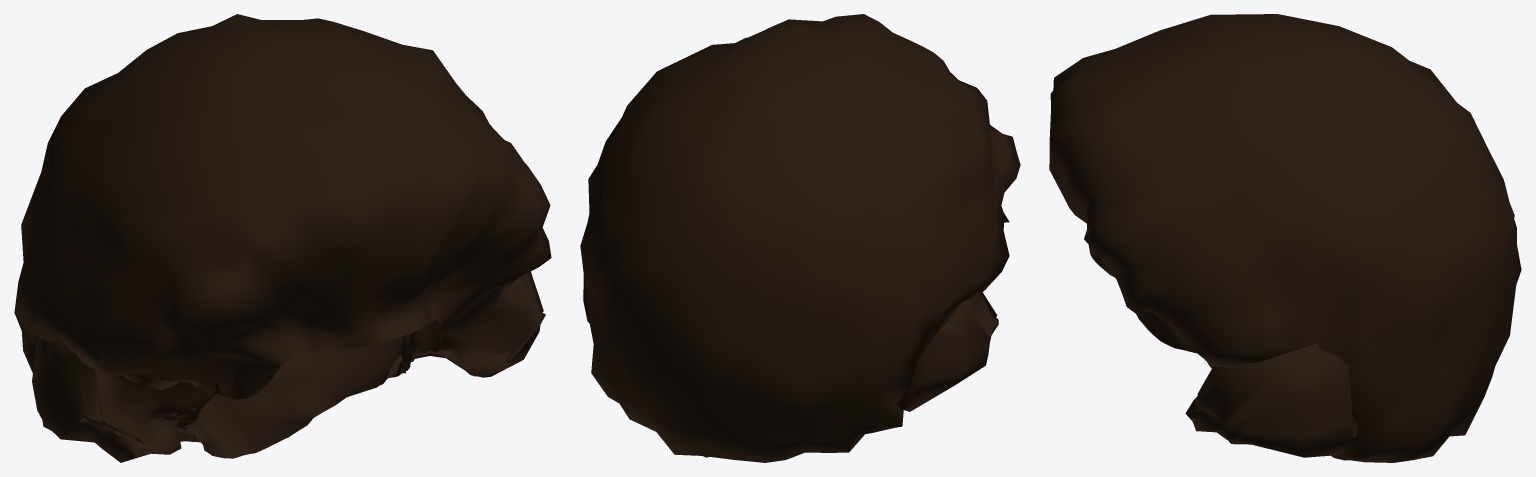
Rendered from hair_afro.glb.
The picture shows the model from 3 angles, left to right: view 1: azimuth 30°, elevation 25°; view 2: azimuth 150°, elevation 25°; view 3: azimuth 270°, elevation 25°; orthographic projection. The views are drawn at different scales.
Parts seen in each view (by area): view 1: hair_afro; view 2: hair_afro; view 3: hair_afro.
Part boxes in pixels (bbox=[...]): hair_afro: bbox=[14, 14, 551, 462]; hair_afro: bbox=[580, 14, 1020, 462]; hair_afro: bbox=[1049, 14, 1521, 462].
Size of the model in its own units: 0.3384 by 0.3048 by 0.3266.
